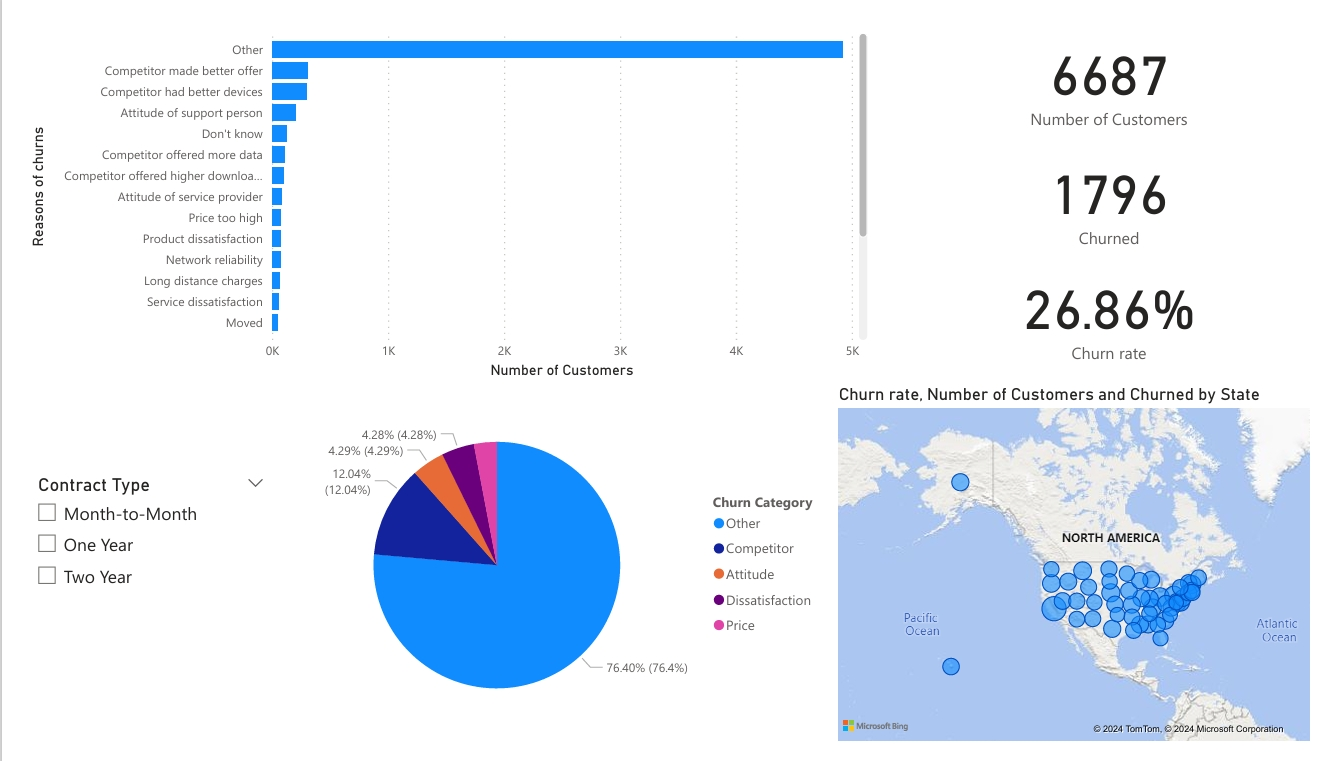

The dashboard page shown, as its layout file describes it:
{"tool":"powerbi","page":{"name":"Data Check","canvas":[1280,720],"ordinal":0},"visuals":[{"type":"card","fields":{"Values":["Databel - Data.Number of Customers"]},"box":[870,0,410,118.6],"z":0},{"type":"card","fields":{"Values":["Sum(Databel - Data.churned cusomers)"]},"box":[870,118.6,410,117.1],"z":1000},{"type":"card","fields":{"Values":["Databel - Data.Churn rate"]},"box":[870,235.7,410,110],"z":2000},{"type":"clusteredBarChart","fields":{"Category":["Databel - Data.Churn Reason"],"Y":["Divide(Databel - Data.Number of Customers, ScopedEval(Databel - Data.Number of Customers, []))"]},"box":[0,0,840,360],"z":3000},{"type":"pieChart","fields":{"Category":["Databel - Data.Churn Category"],"Y":["Divide(Databel - Data.Number of Customers, ScopedEval(Databel - Data.Number of Customers, []))"]},"box":[249.4,360.6,552.5,359.4],"z":4000},{"type":"map","fields":{"Size":["Databel - Data.Churn rate"],"Category":["Databel - Data.State"]},"box":[801.9,360.6,478,359.4],"z":5000},{"type":"slicer","fields":{"Values":["Databel - Data.Contract Type"]},"box":[0,445,249.4,162.6],"z":6000}]}

Visuals, with their boxes in screenshot pixels (x1, y1, x2, y2), scaled from the page's 1280x720 canvas onto the 1336x761 screenshot:
card - Databel - Data.Number of Customers: [x1=908, y1=0, x2=1335, y2=125]
card - Sum(Databel - Data.churned cusomers): [x1=908, y1=125, x2=1335, y2=249]
card - Databel - Data.Churn rate: [x1=908, y1=249, x2=1335, y2=365]
clusteredBarChart - Databel - Data.Churn Reason x Divide(Databel - Data.Number of Customers, ScopedEval(Databel - Data.Number of Customers, [])): [x1=0, y1=0, x2=877, y2=380]
pieChart - Databel - Data.Churn Category x Divide(Databel - Data.Number of Customers, ScopedEval(Databel - Data.Number of Customers, [])): [x1=260, y1=381, x2=837, y2=760]
map - Databel - Data.Churn rate x Databel - Data.State: [x1=837, y1=381, x2=1335, y2=760]
slicer - Databel - Data.Contract Type: [x1=0, y1=470, x2=260, y2=642]
